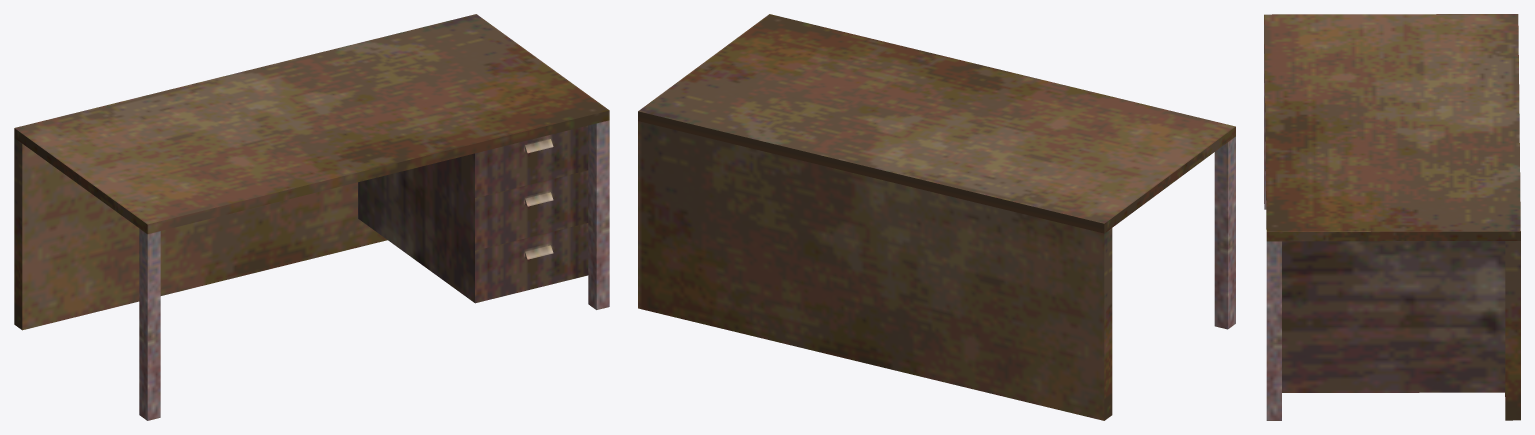
File: desk1_alt3_weathered.obj
The picture shows the model from 3 angles, left to right: view 1: azimuth 30°, elevation 25°; view 2: azimuth 150°, elevation 25°; view 3: azimuth 270°, elevation 25°; orthographic projection. The views are drawn at different scales.
Visible parts, largest first — view 1: desk1_alt3_weathered; view 2: desk1_alt3_weathered; view 3: desk1_alt3_weathered.
Part boxes in pixels (left/top/right/bottom): desk1_alt3_weathered: left=14, top=14, right=609, bottom=420; desk1_alt3_weathered: left=638, top=14, right=1235, bottom=420; desk1_alt3_weathered: left=1264, top=14, right=1520, bottom=420.
Bounding box in the file's own units: 2.21 × 0.8911 × 1.1.
